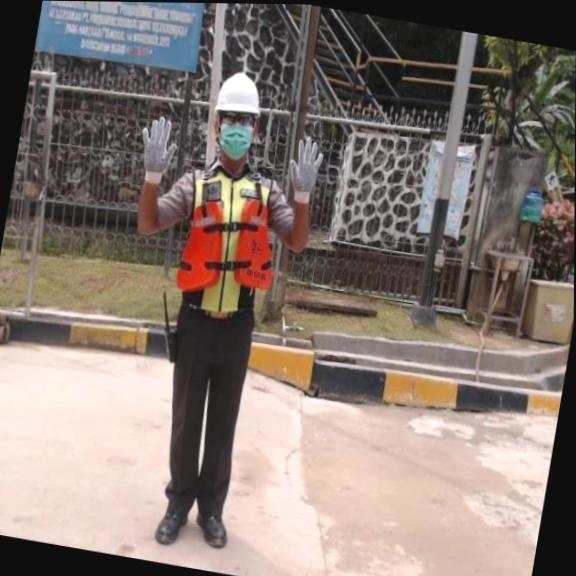safety_vest: (172, 184, 287, 308)
